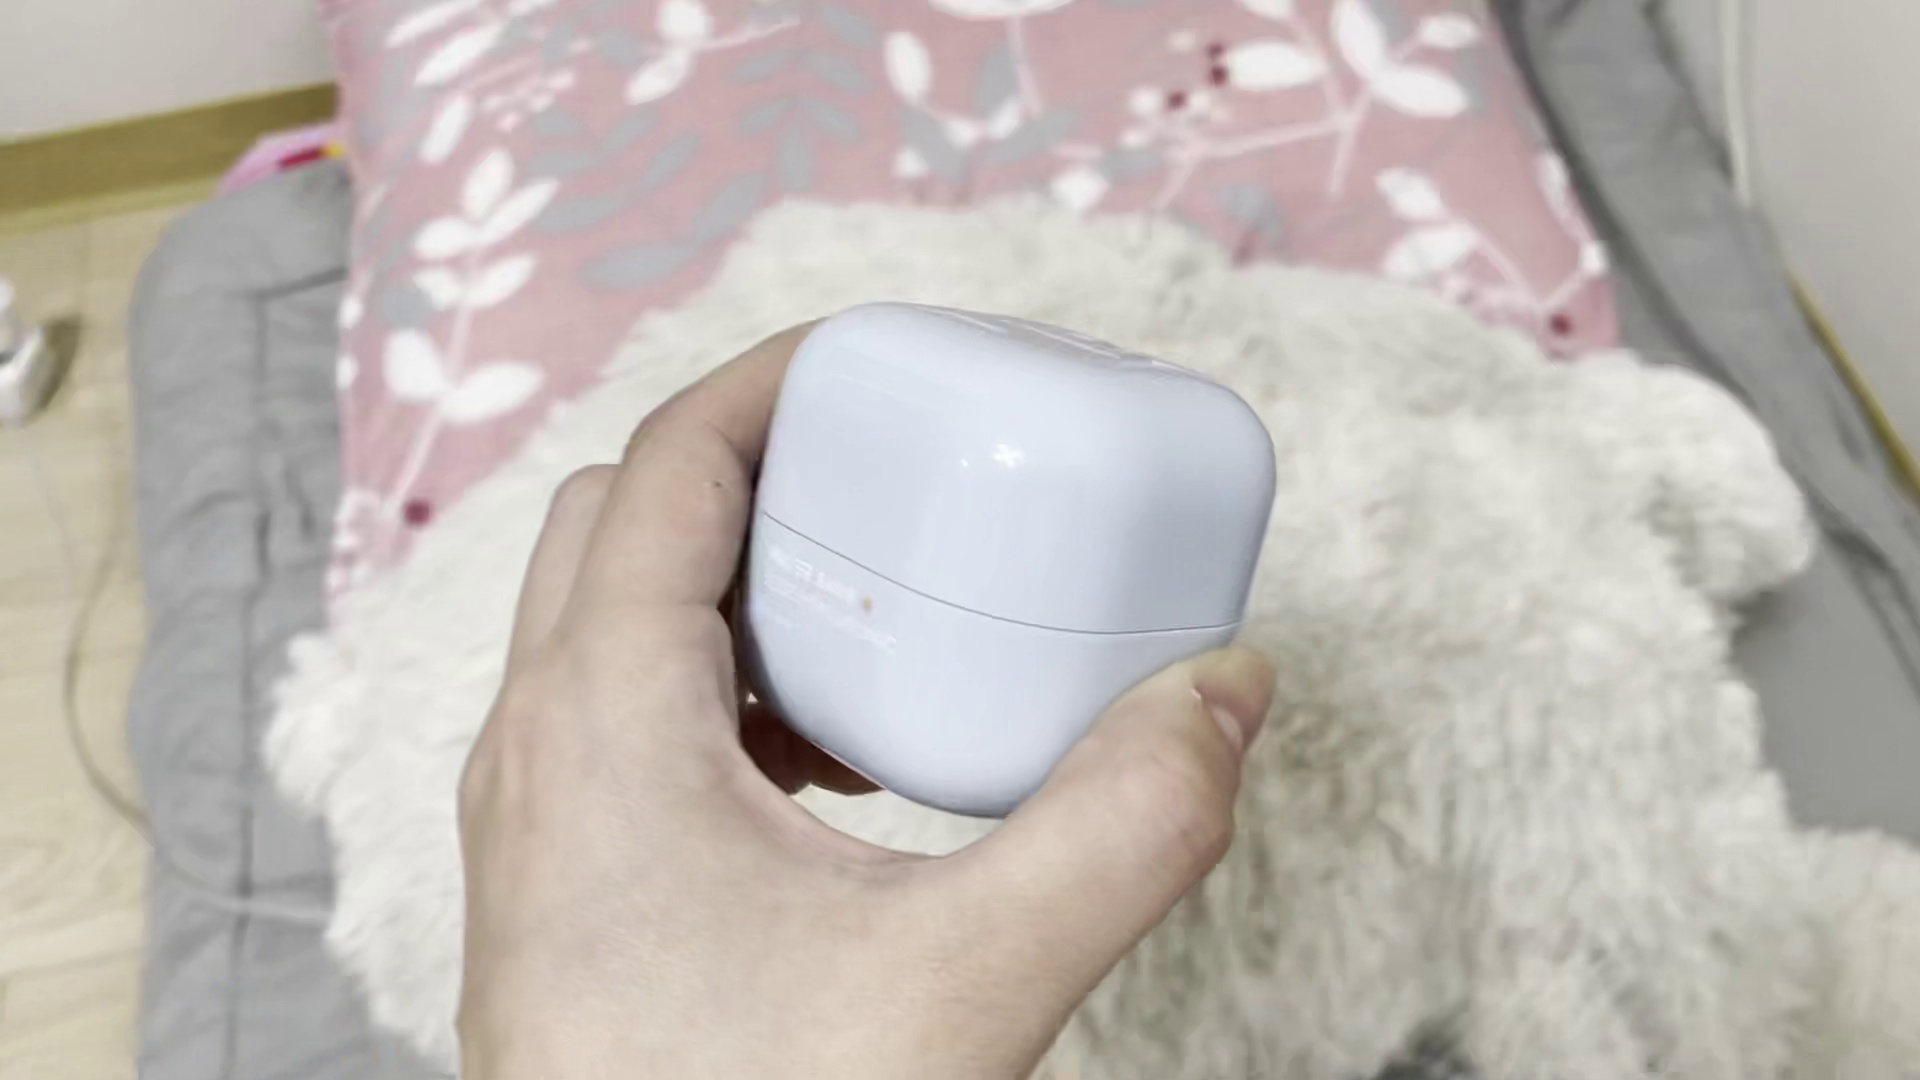cream: (742, 299, 1279, 814)
